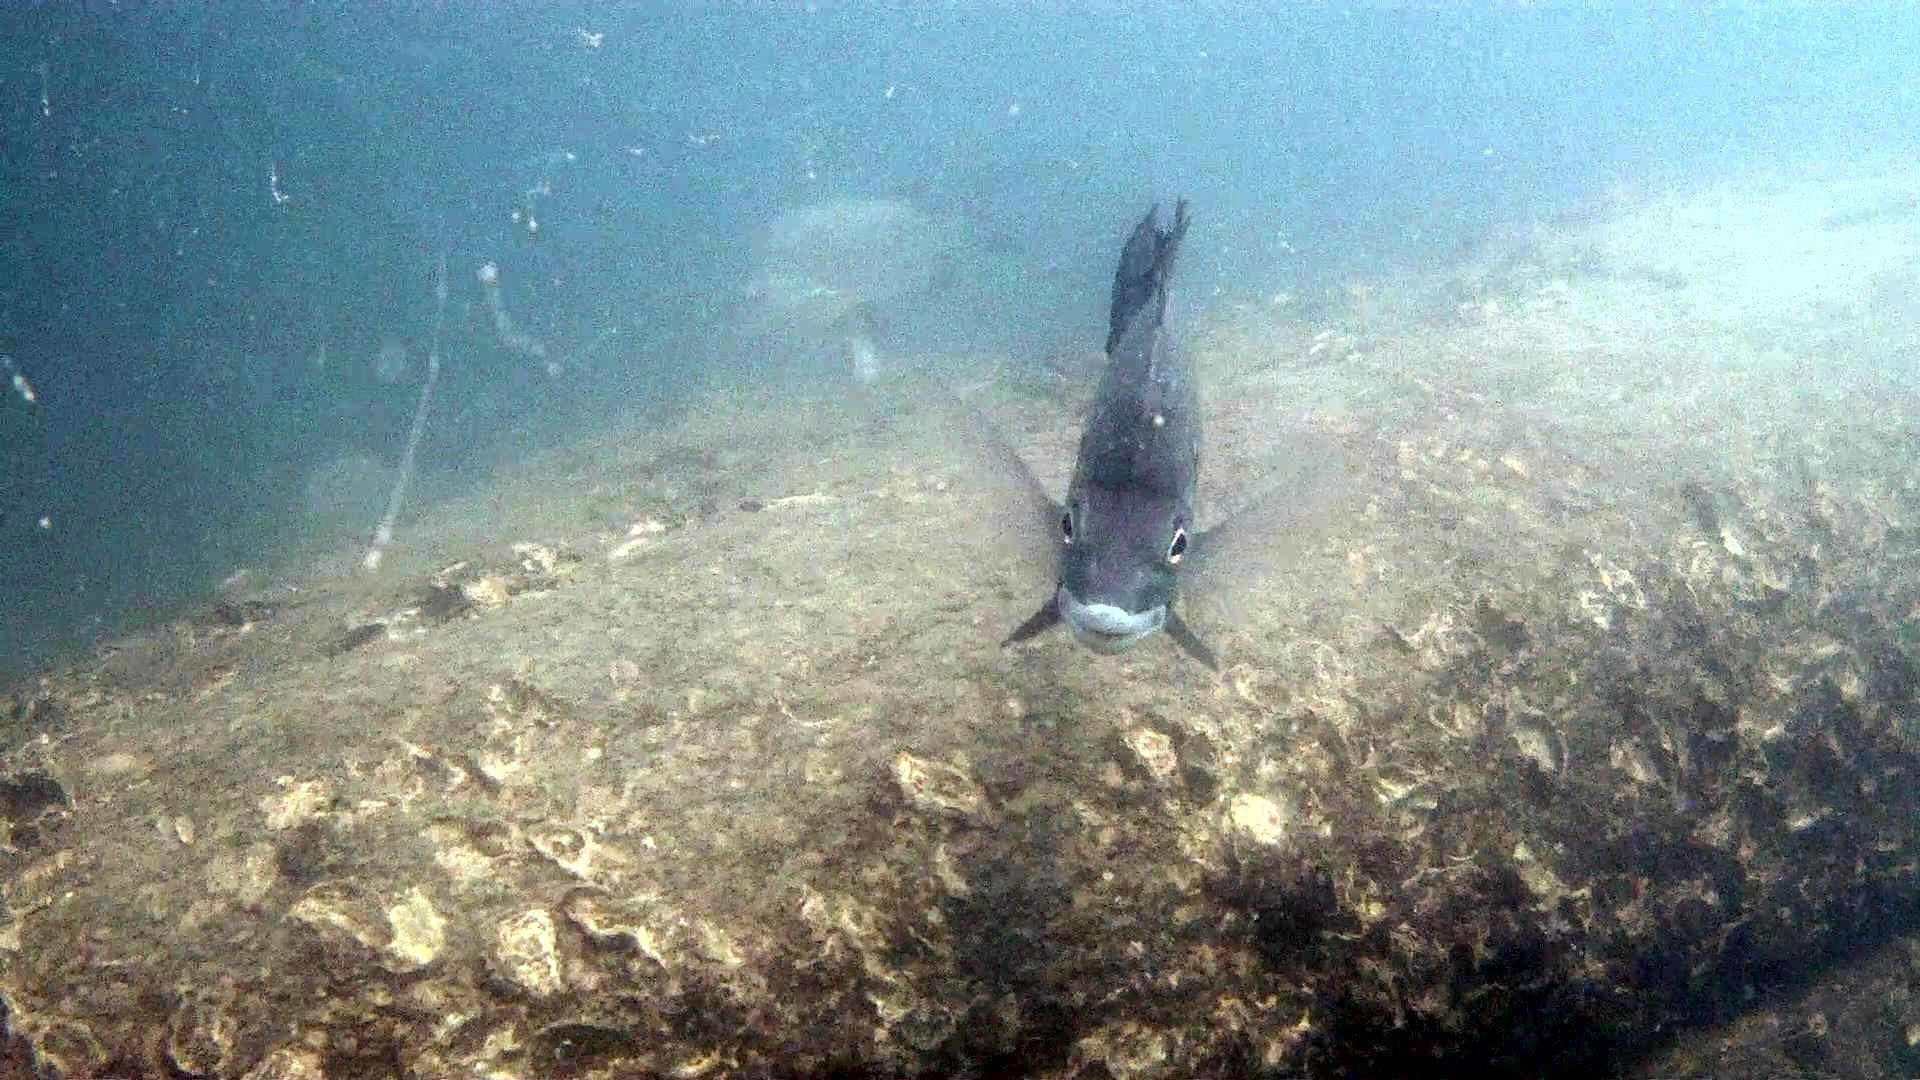acanthopagrus palmaris: (928, 191, 1359, 684)
